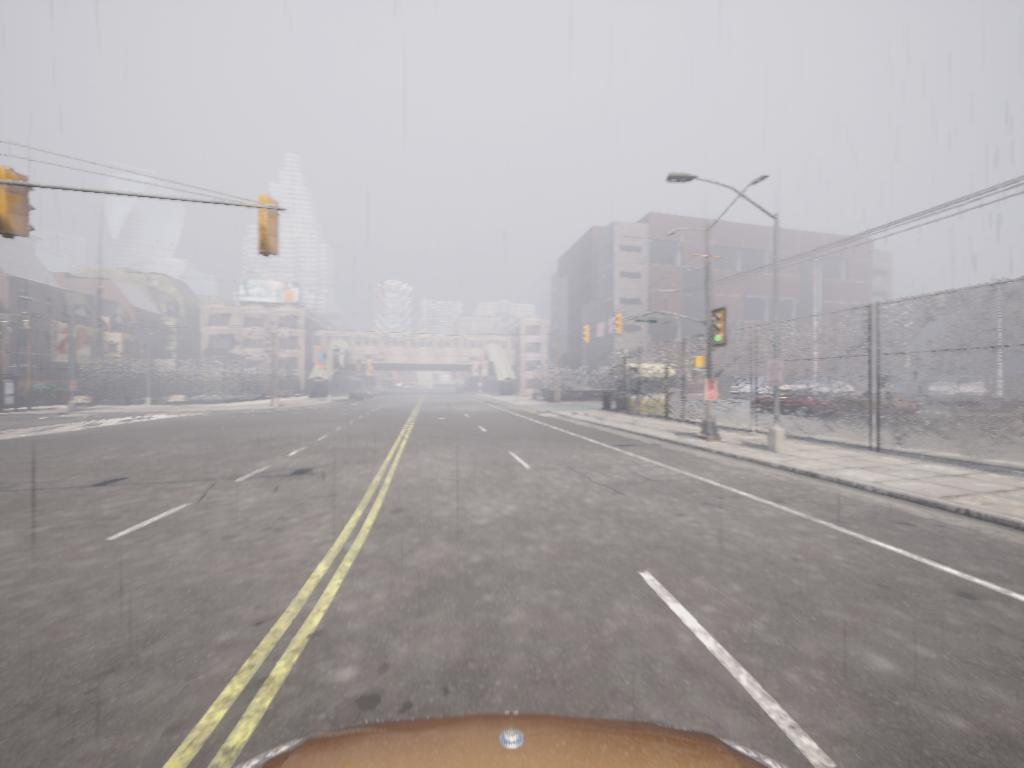traffic_light: (1, 165, 34, 239), (257, 193, 281, 258), (710, 310, 728, 346), (614, 315, 624, 335), (695, 358, 709, 372), (584, 327, 594, 344)
